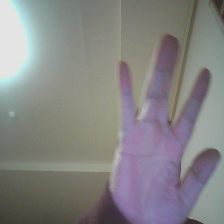hand: (114, 27, 218, 223)
